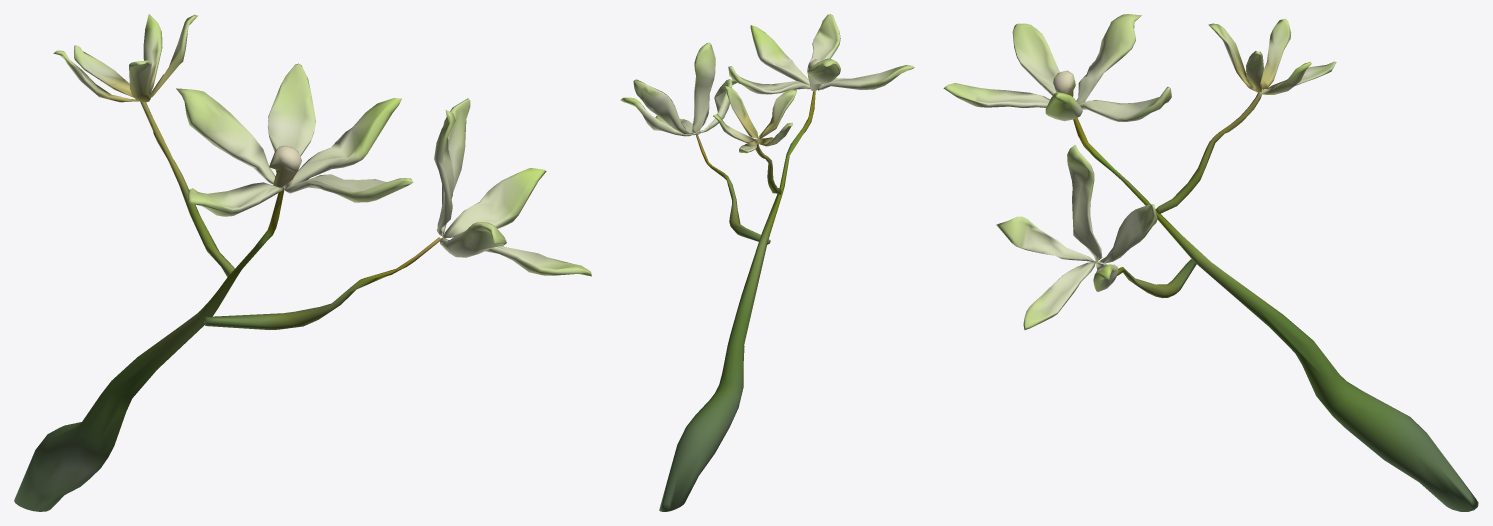
3 views of the same model, side by side, from view 1: azimuth 30°, elevation 25°; view 2: azimuth 150°, elevation 25°; view 3: azimuth 270°, elevation 25° (orthographic). The views are drawn at different scales.
Visible parts, largest first — view 1: LOD 4_6708565968084579216_bb9398364d468ec489d5e3c54dd32286; view 2: LOD 4_6708565968084579216_bb9398364d468ec489d5e3c54dd32286; view 3: LOD 4_6708565968084579216_bb9398364d468ec489d5e3c54dd32286.
Boxes of the visible parts, bbox=[...] form: LOD 4_6708565968084579216_bb9398364d468ec489d5e3c54dd32286: bbox=[14, 14, 591, 511]; LOD 4_6708565968084579216_bb9398364d468ec489d5e3c54dd32286: bbox=[620, 14, 914, 511]; LOD 4_6708565968084579216_bb9398364d468ec489d5e3c54dd32286: bbox=[943, 14, 1478, 511].
Bounding box in the file's own units: 7.96 × 10.63 × 10.92.
